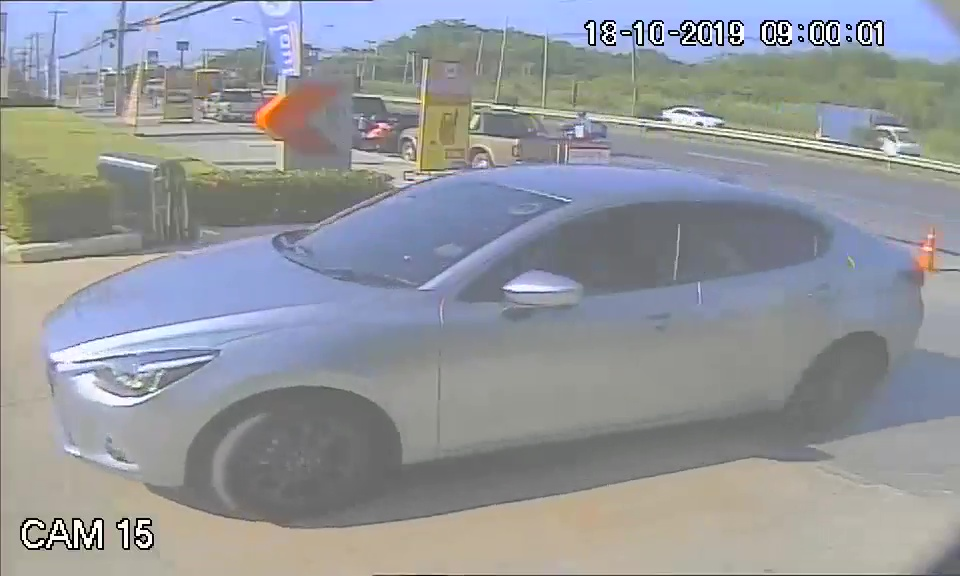sedan: (36, 153, 923, 508)
